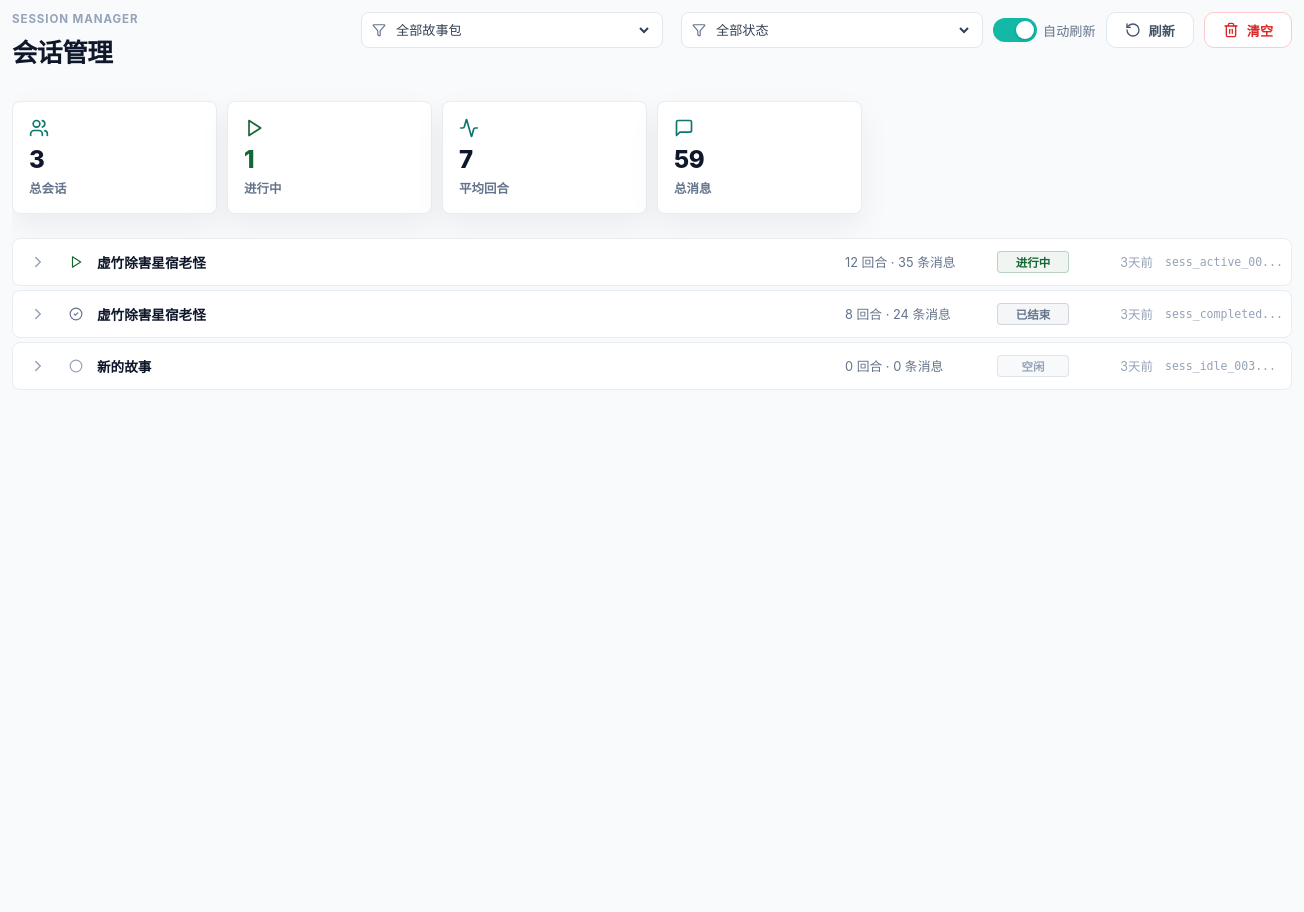
Test case: SessionList › collapses expanded row on second click
The width and height of the screenshot is (1304, 912).
Click the 1st button with class "session-row-main".
click(151, 263)  # box [13, 239, 1291, 285]
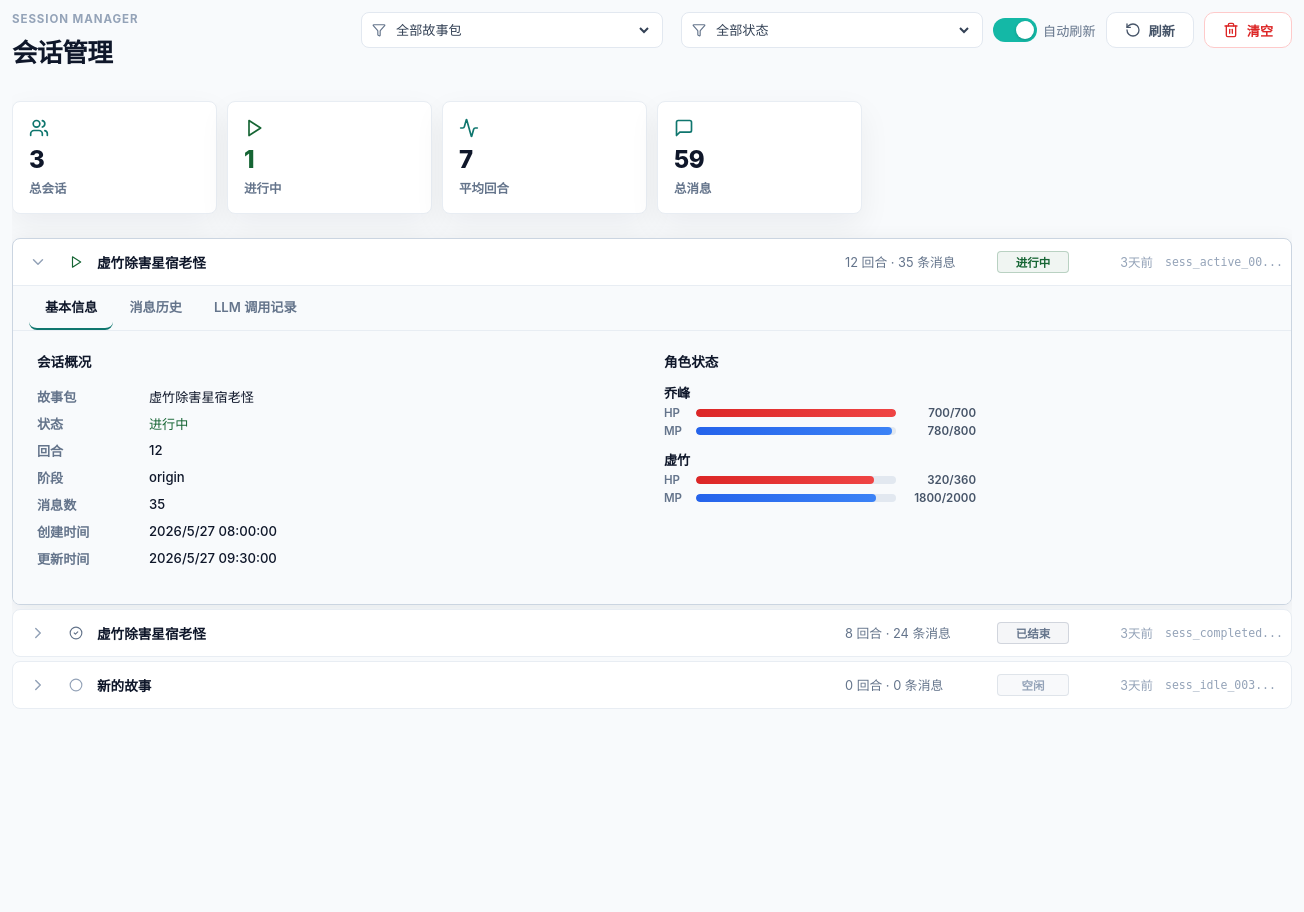
expect the button "基本信息" is shown: met, box [29, 286, 114, 330]
Click the 1st button with class "session-row-main".
click(151, 263)  # box [13, 239, 1291, 285]
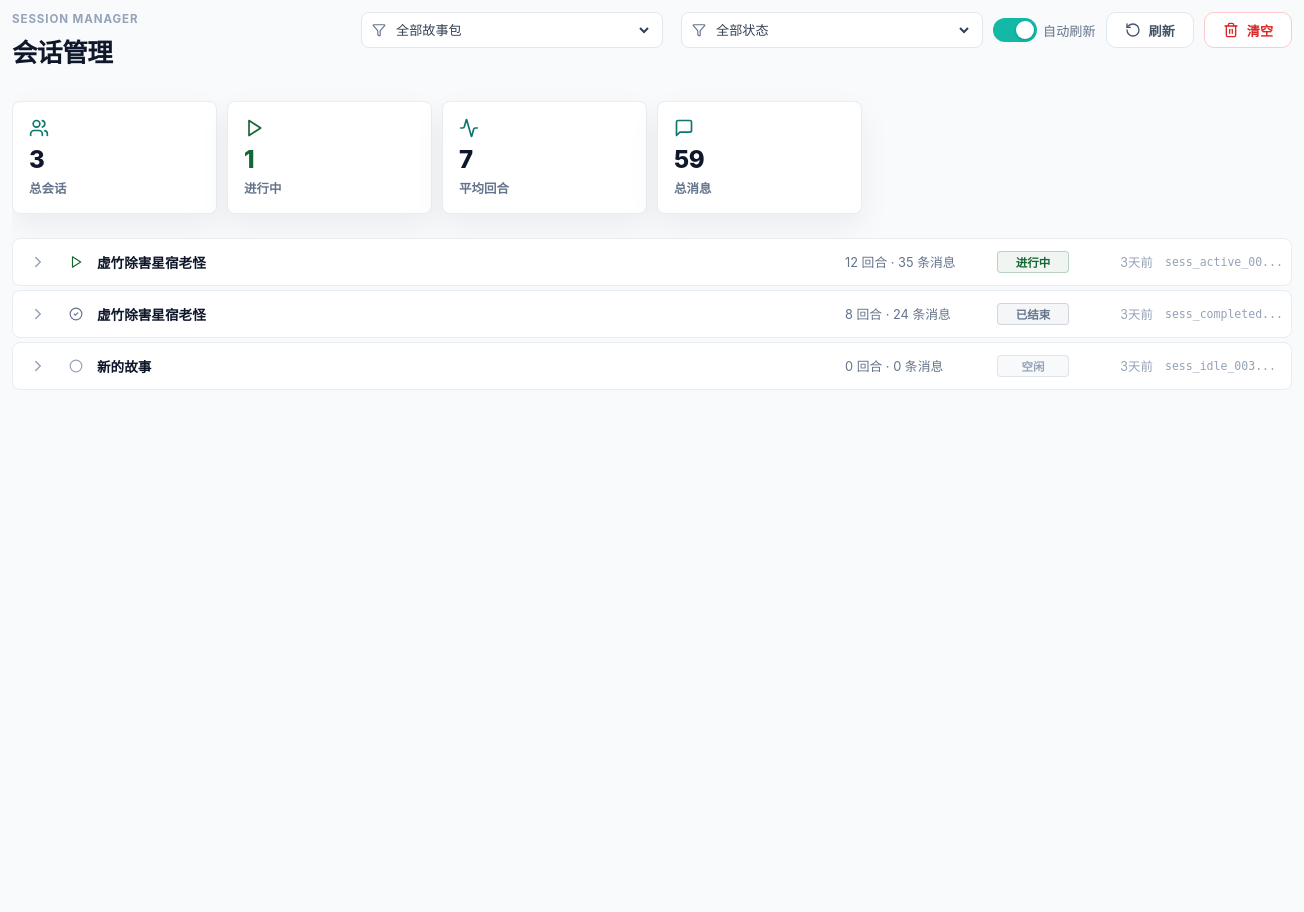
expect the button "基本信息" is gone: met
